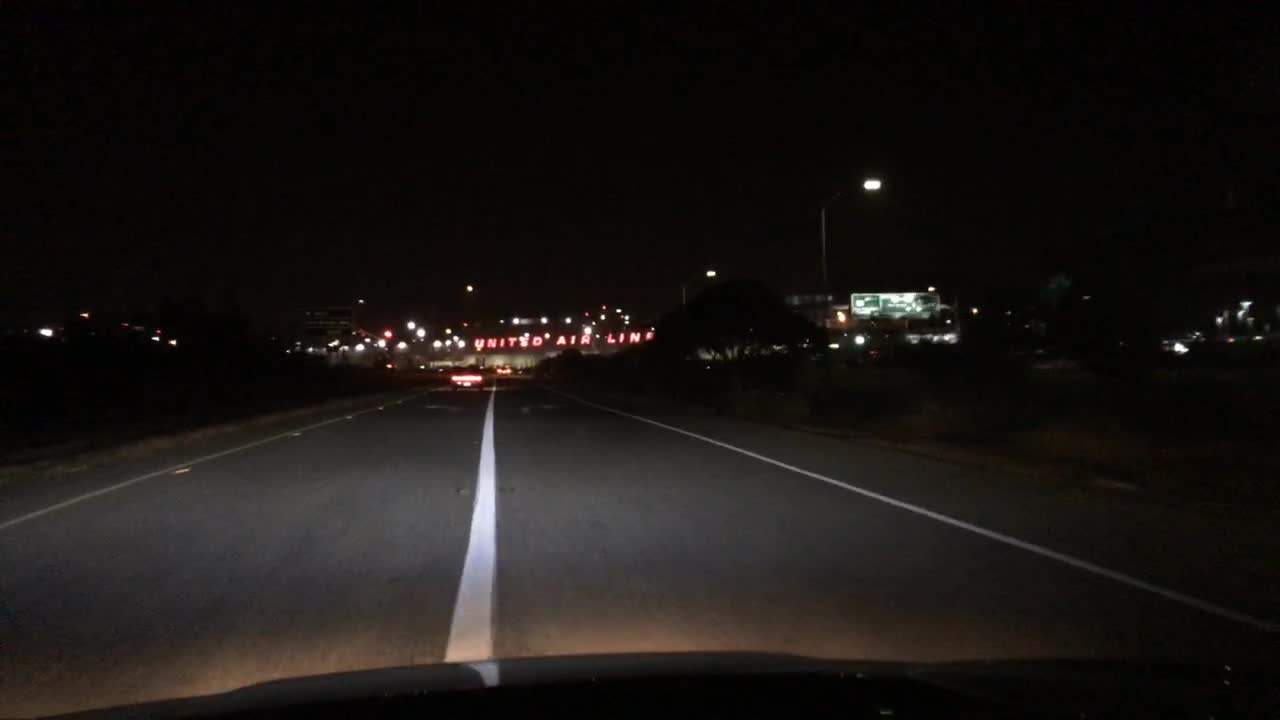car: (448, 362, 484, 388), (495, 364, 513, 374)
traffic sign: (849, 292, 938, 313), (305, 306, 352, 334)
